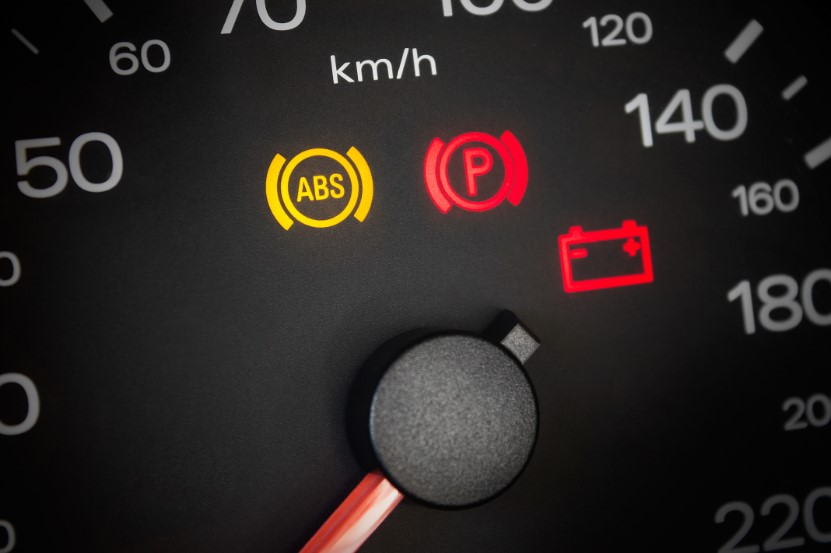ABS: (256, 140, 382, 245)
